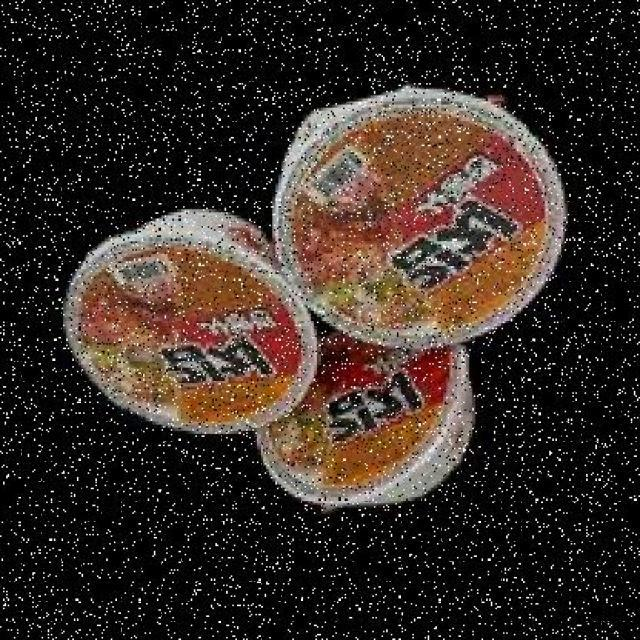Miscellaneous: (278, 95, 576, 338), (59, 212, 318, 437), (256, 308, 478, 514)
